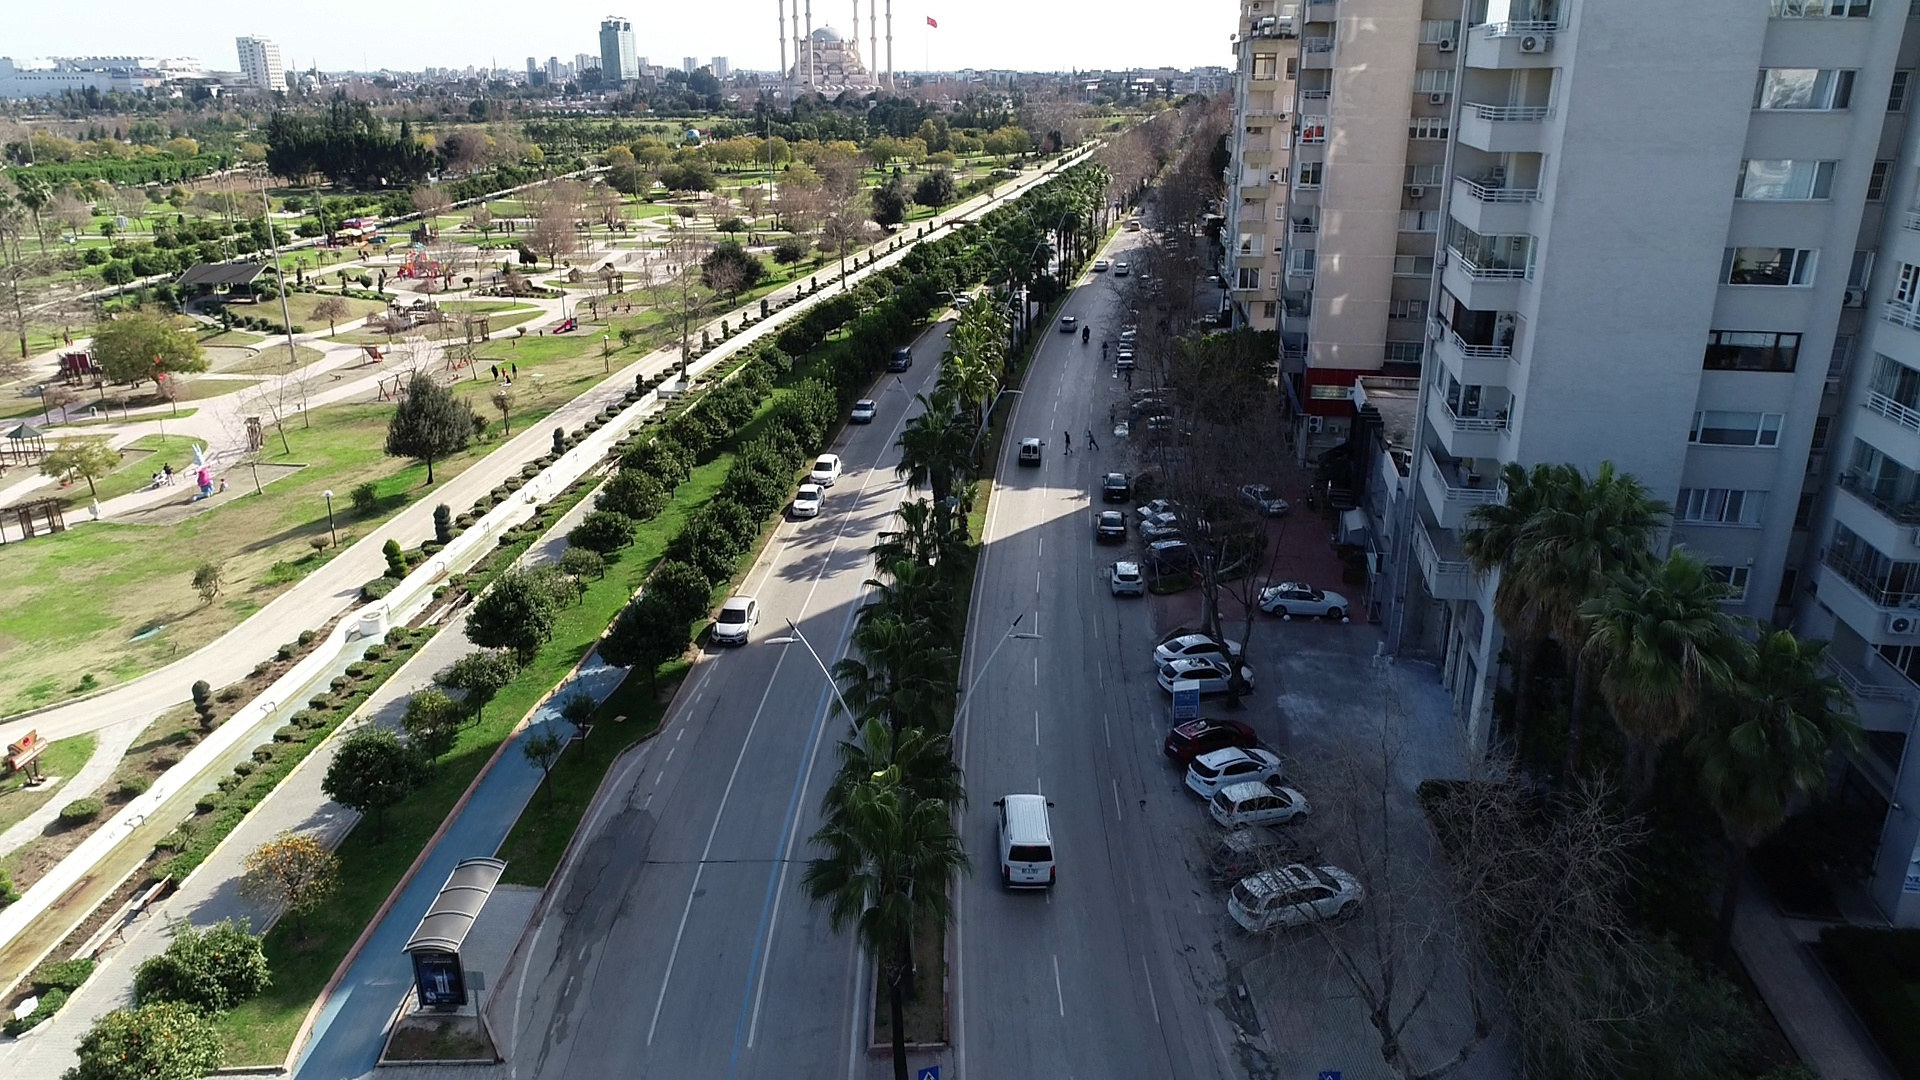car: (1222, 860, 1374, 939), (1207, 827, 1324, 889), (1183, 743, 1286, 803), (1210, 782, 1319, 834), (1162, 713, 1259, 770), (1253, 581, 1353, 628), (1157, 658, 1260, 700), (712, 595, 763, 653), (1237, 477, 1296, 521), (1106, 558, 1148, 605), (808, 449, 843, 492), (1094, 510, 1133, 547), (790, 482, 827, 520), (1098, 467, 1133, 504), (1014, 435, 1048, 472), (847, 398, 881, 428), (886, 344, 914, 377), (1053, 313, 1080, 337), (1115, 350, 1143, 370), (1108, 259, 1133, 280), (1091, 253, 1110, 277), (1123, 218, 1144, 236)
person: (1058, 428, 1077, 459), (1081, 428, 1103, 453), (162, 461, 179, 489), (1121, 367, 1138, 393), (1107, 402, 1118, 428), (1100, 338, 1110, 363)
